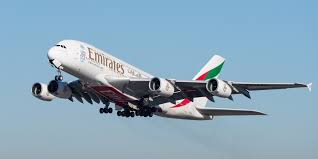maybay_dansu: (28, 35, 311, 127)
